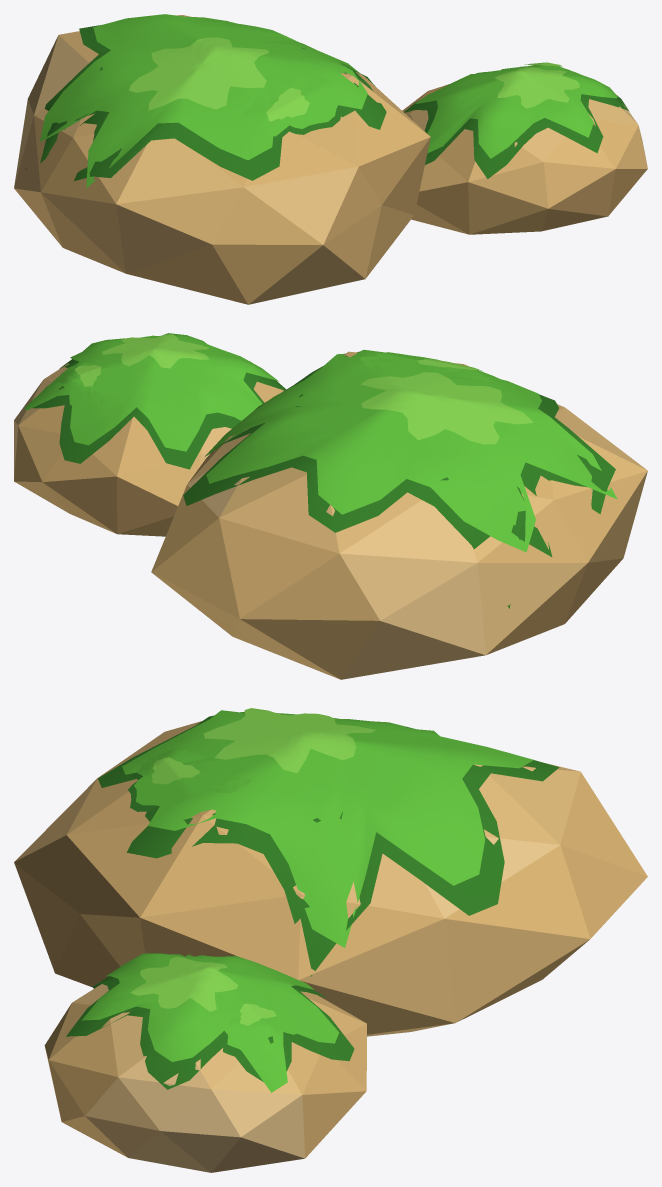
File: rock_6_cap.glb
The picture shows the model from 3 angles, top to bottom: view 1: azimuth 30°, elevation 25°; view 2: azimuth 150°, elevation 25°; view 3: azimuth 270°, elevation 25°; orthographic projection. The views are drawn at different scales.
Visible parts, largest first — view 1: rock_6_cap; view 2: rock_6_cap; view 3: rock_6_cap.
Boxes of the visible parts, box(x1,y1,x2,y2) form: rock_6_cap: box(14, 14, 647, 304); rock_6_cap: box(14, 333, 647, 679); rock_6_cap: box(14, 708, 647, 1172).
Bounding box in the file's own units: 2.68 × 0.8938 × 2.16.
